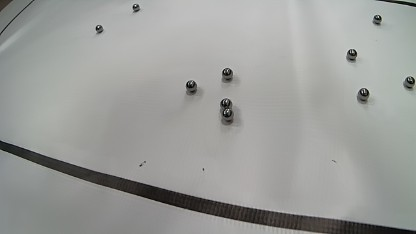ironball: (221, 108, 234, 121), (357, 88, 369, 101), (185, 80, 197, 92), (220, 98, 232, 110), (221, 68, 233, 79), (404, 76, 415, 88), (347, 49, 357, 60), (373, 14, 382, 24), (95, 24, 103, 33), (132, 3, 140, 11)
